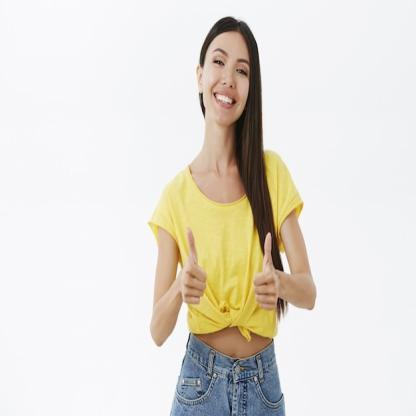thumb_up: (176, 225, 209, 308), (252, 231, 282, 315)
